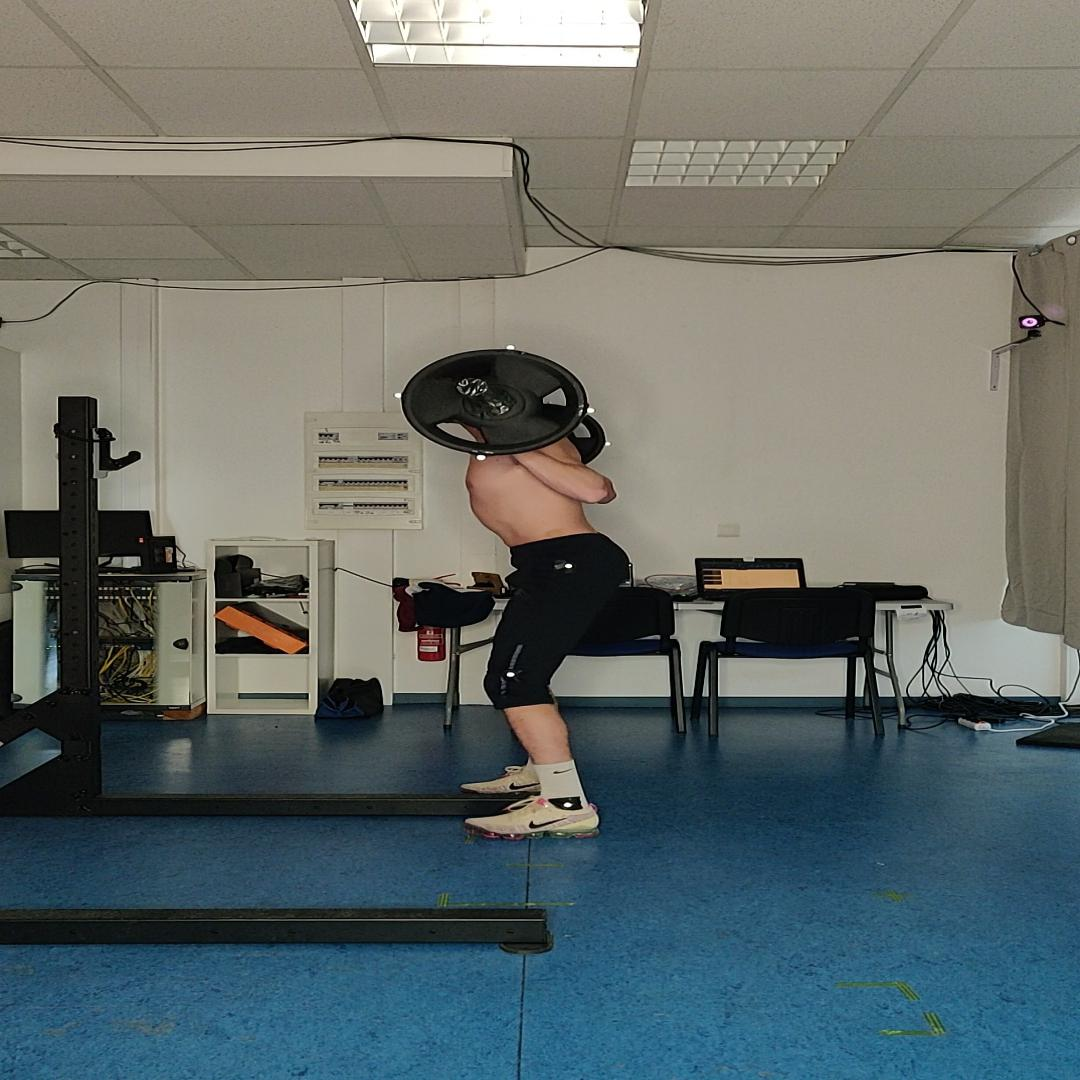Bar: (456, 377, 489, 397)
Barbell: (401, 349, 588, 456)
